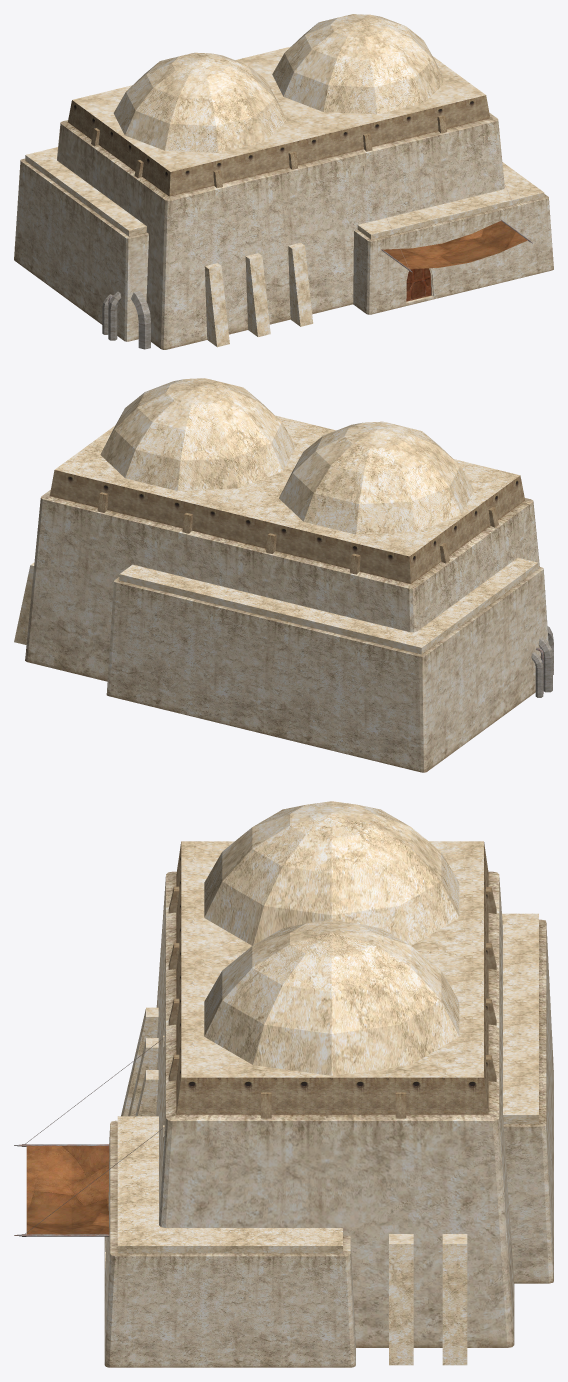
The model's file is thm_tato_imprv_building_s03_l0.fbx.
The picture shows the model from 3 angles, top to bottom: view 1: azimuth 30°, elevation 25°; view 2: azimuth 150°, elevation 25°; view 3: azimuth 270°, elevation 25°; orthographic projection. The views are drawn at different scales.
Parts seen in each view (by area): view 1: mesh_node; view 2: mesh_node; view 3: mesh_node.
Boxes of the visible parts, bbox=[...] form: mesh_node: bbox=[14, 14, 553, 349]; mesh_node: bbox=[14, 378, 553, 772]; mesh_node: bbox=[14, 801, 553, 1367].
Size of the model in its own units: 32.28 by 17.22 by 24.3.
Materials: 4 (4 with a texture image).
